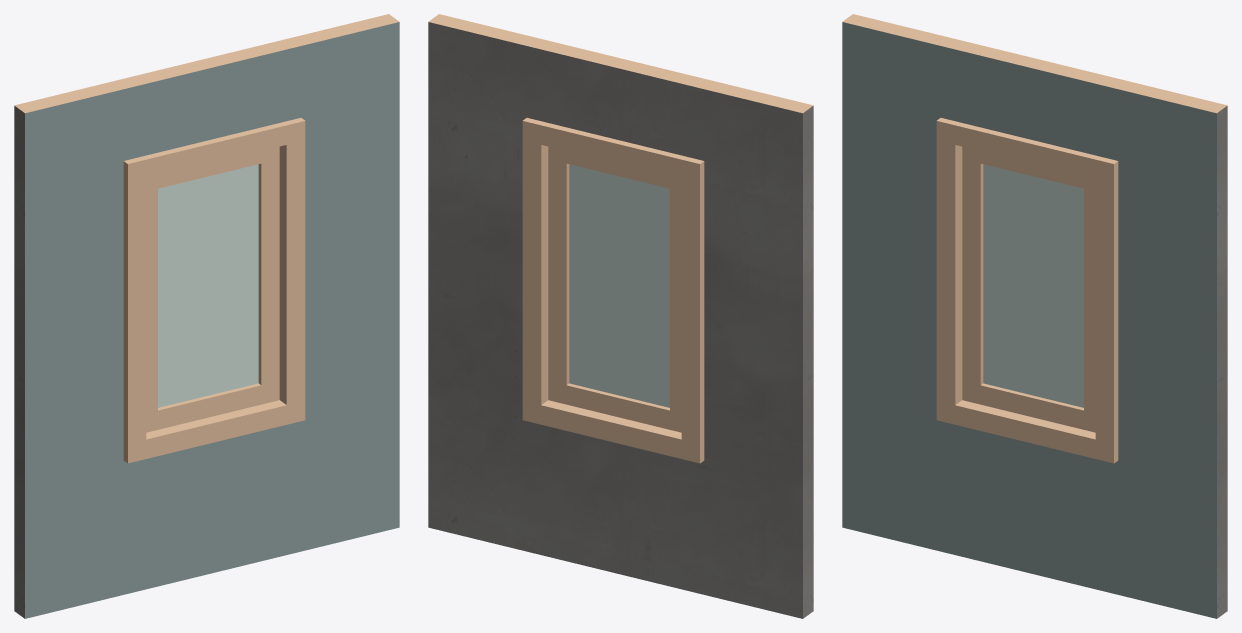
The model's file is WallWindow.fbx.
3 views of the same model, side by side, from view 1: azimuth 30°, elevation 25°; view 2: azimuth 150°, elevation 25°; view 3: azimuth 330°, elevation 25° (orthographic).
Visible parts, largest first — view 1: wallWindow, window; view 2: wallWindow, window; view 3: wallWindow, window.
Boxes of the visible parts, <box> form: wallWindow: <box>14,14,399,618</box>; window: <box>146,146,279,432</box>; wallWindow: <box>428,14,813,618</box>; window: <box>548,146,681,432</box>; wallWindow: <box>842,14,1227,618</box>; window: <box>962,146,1095,432</box>.
Bounding box in the file's own units: 250 × 322 × 22.28.
Materials: 4 (1 with a texture image).
